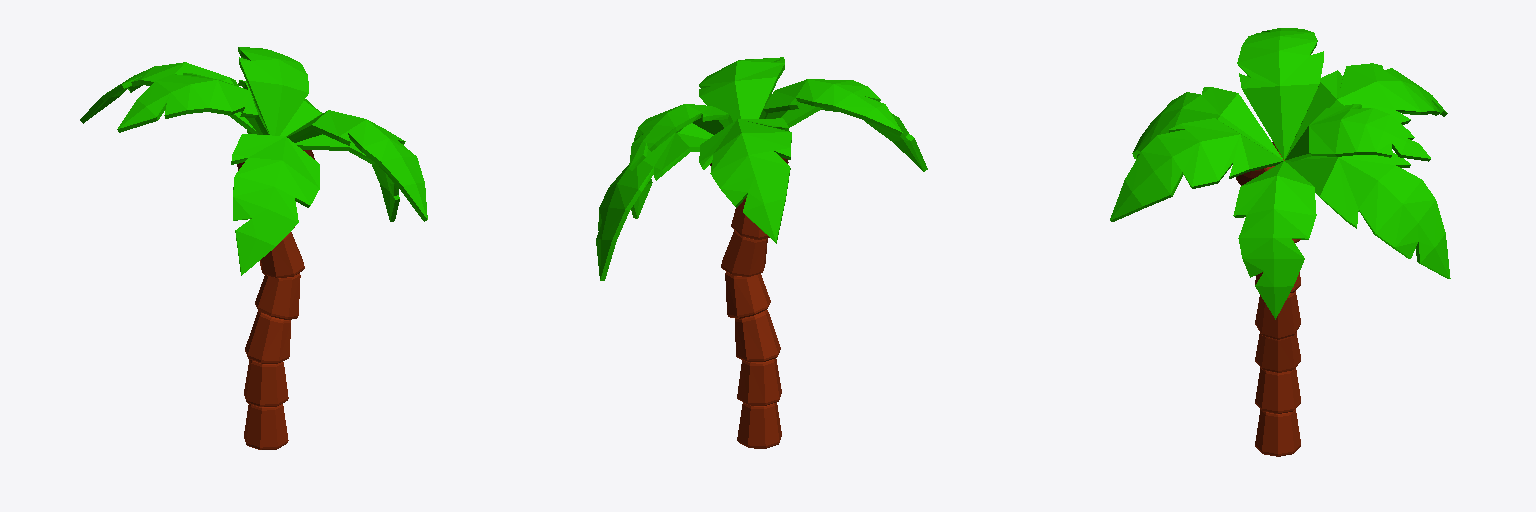
The model's file is palmtree.obj.
The picture shows the model from 3 angles: view 1: azimuth 30°, elevation 25°; view 2: azimuth 150°, elevation 25°; view 3: azimuth 270°, elevation 25°; orthographic projection.
Visible parts, largest first — view 1: palmtree; view 2: palmtree; view 3: palmtree.
Part boxes in pixels (left/top/right/bottom): palmtree: left=80, top=47, right=427, bottom=449; palmtree: left=596, top=57, right=927, bottom=448; palmtree: left=1110, top=28, right=1450, bottom=456.
Bounding box in the file's own units: 4.94 × 6.49 × 5.34.